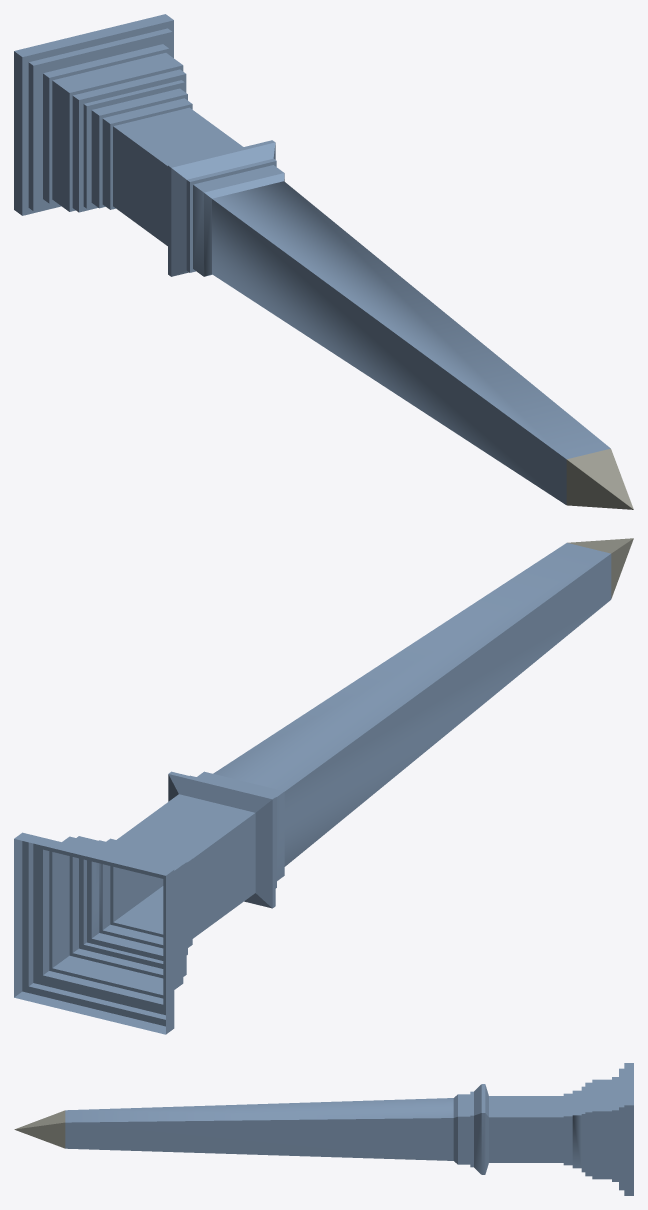
File: obeliskBlue.fbx
The picture shows the model from 3 angles, top to bottom: view 1: azimuth 30°, elevation 25°; view 2: azimuth 150°, elevation 25°; view 3: azimuth 270°, elevation 25°; orthographic projection. The views are drawn at different scales.
Parts seen in each view (by area): view 1: obelisk; view 2: obelisk; view 3: obelisk.
Part boxes in pixels (<box>): obelisk: <box>14,14,633,509</box>; obelisk: <box>14,538,633,1034</box>; obelisk: <box>14,1063,633,1195</box>.
Size of the model in its own units: 258 by 258 by 1603.
